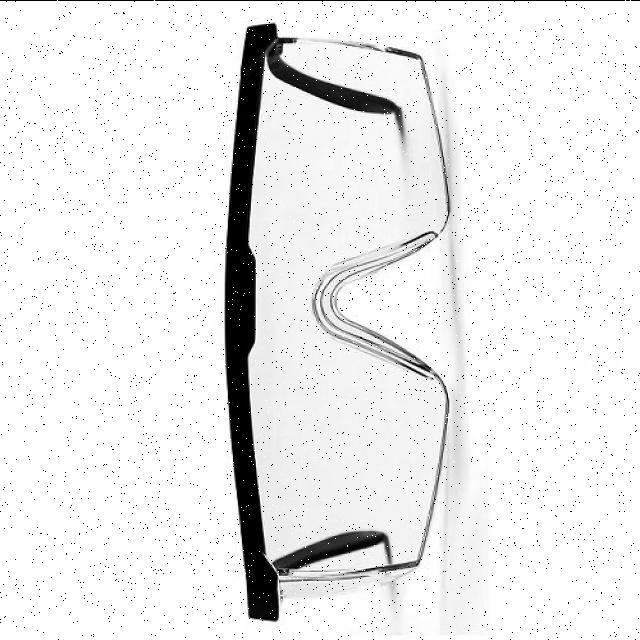Goggles: (220, 17, 490, 629)
